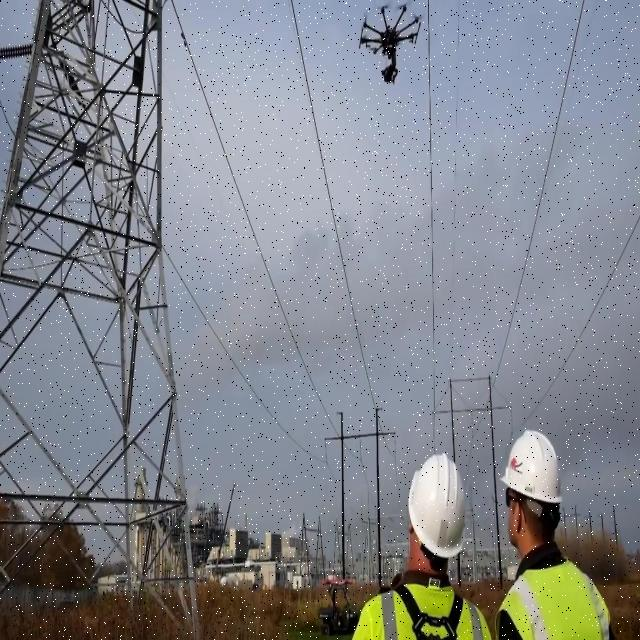UAV: (359, 2, 421, 84)
